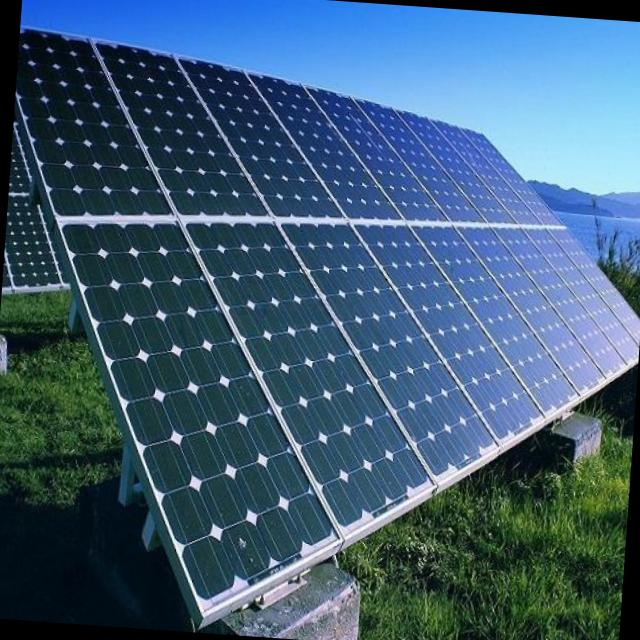no faulty: (16, 24, 640, 613)
